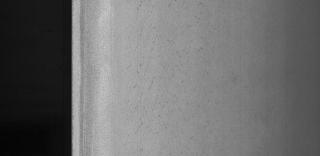silk spot: (128, 3, 195, 139)
